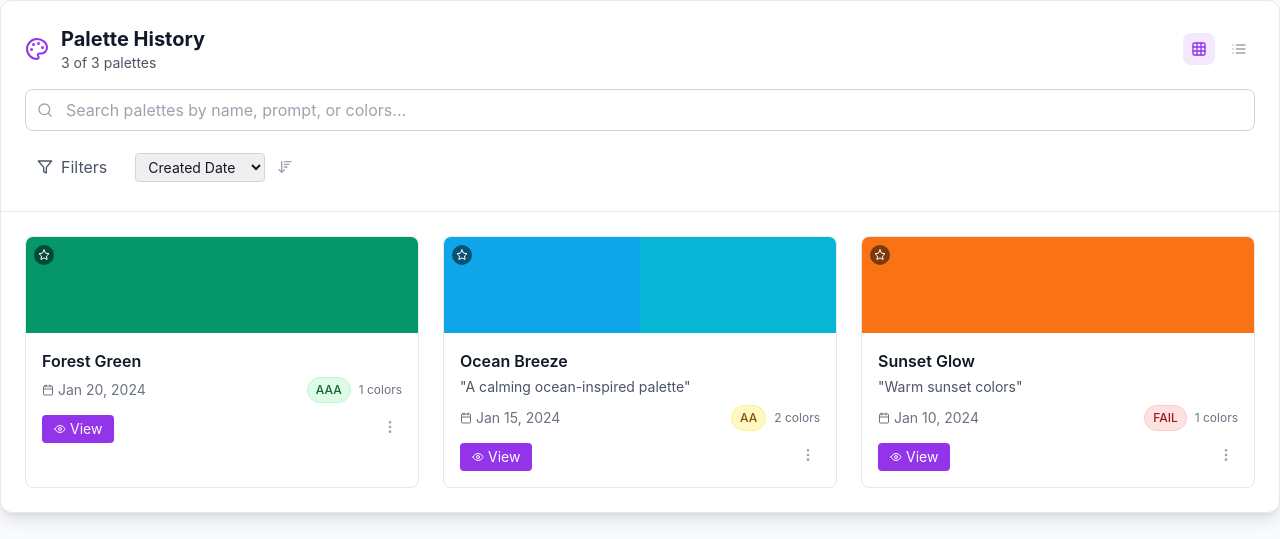
Test case: HistoryPanel › Search Functionality › filters palettes by prompt
In the field with placeholder "Search palettes by name, prompt, or colors...": (640, 110) x1=25 y1=89 x2=1255 y2=131, type "sunset"
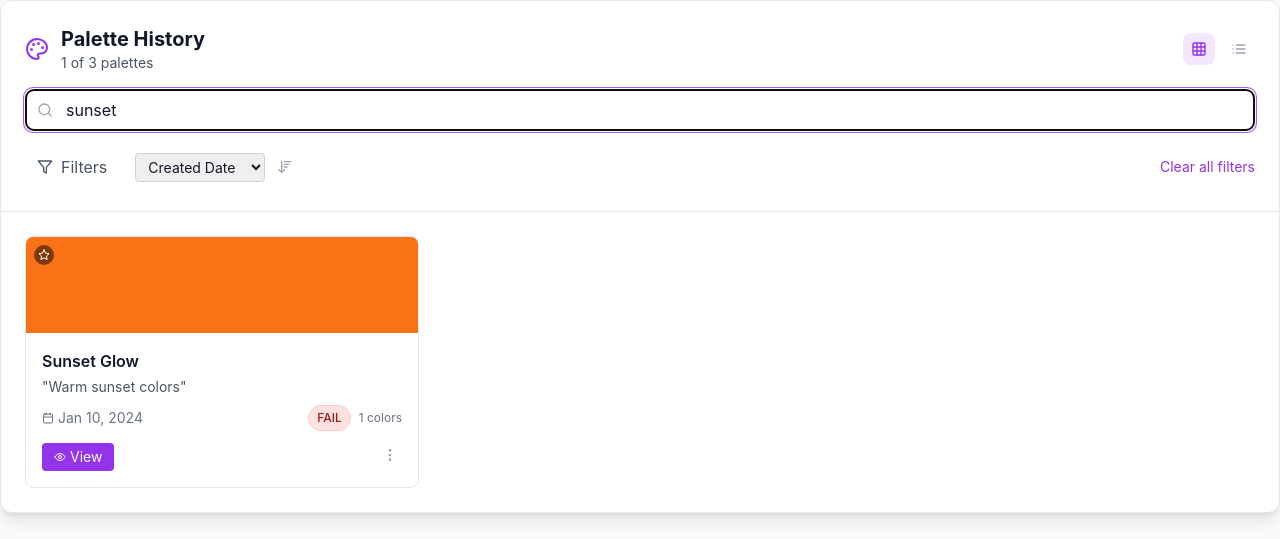
Expected: the heading "Sunset Glow" is shown, x1=42 y1=351 x2=139 y2=371
Now the heading "Ocean Breeze" is gone
